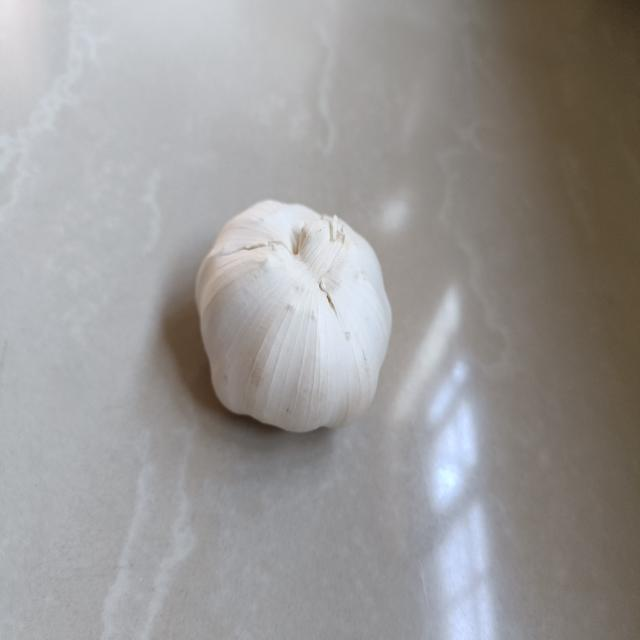garlic: (186, 194, 402, 443)
